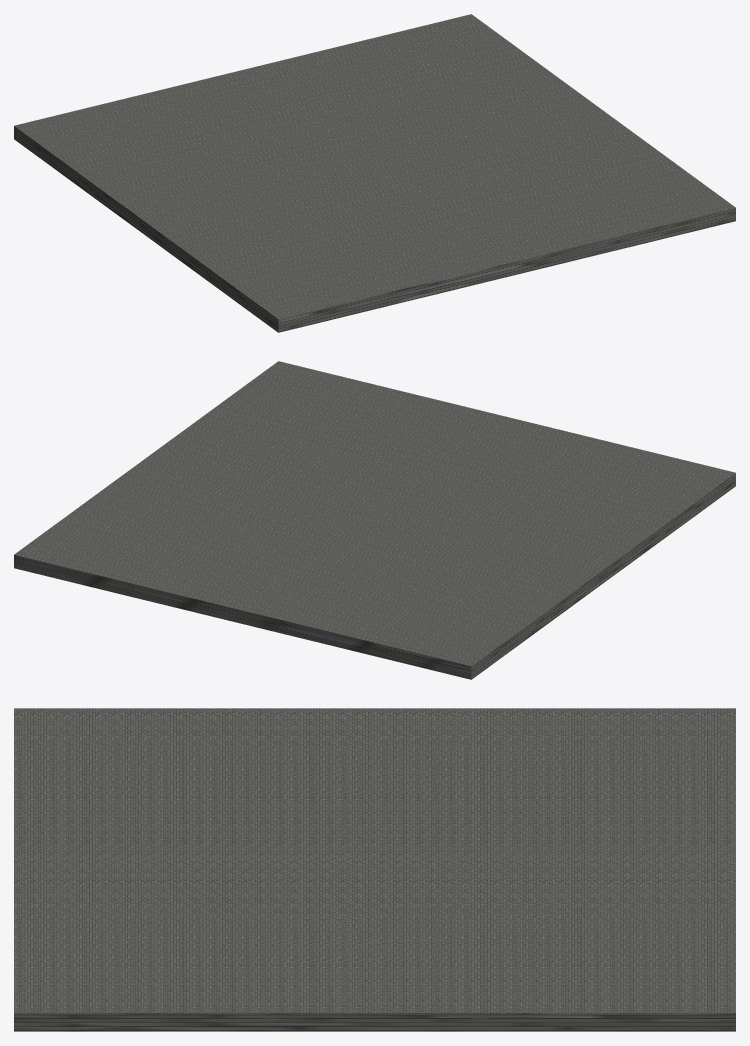
File: floor_texture_2.gltf
3 renders of one model, top to bottom at view 1: azimuth 30°, elevation 25°; view 2: azimuth 150°, elevation 25°; view 3: azimuth 270°, elevation 25°, orthographic. The views are drawn at different scales.
Visible parts, largest first — view 1: pCube1; view 2: pCube1; view 3: pCube1.
Part boxes in pixels (box(x1,y1,x2,y2)): pCube1: box(14, 14, 735, 332); pCube1: box(14, 361, 735, 679); pCube1: box(14, 708, 735, 1031).
Size of the model in its own units: 119 by 3.37 by 119.
Materials: 1 (1 with a texture image).
